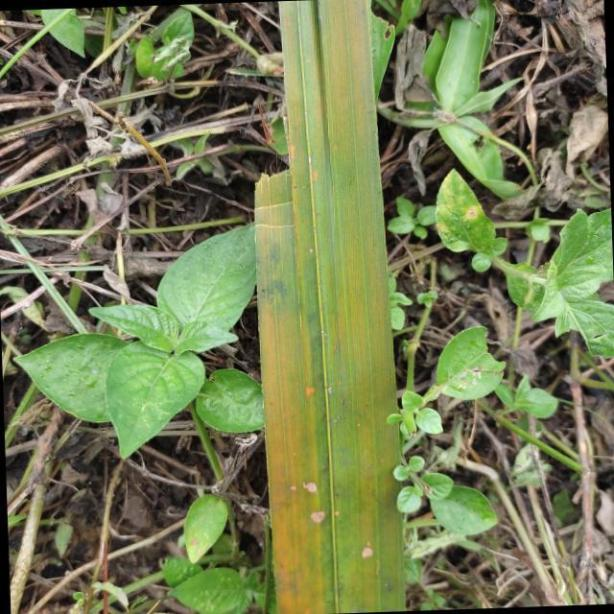Megnesium: (250, 0, 404, 614)
